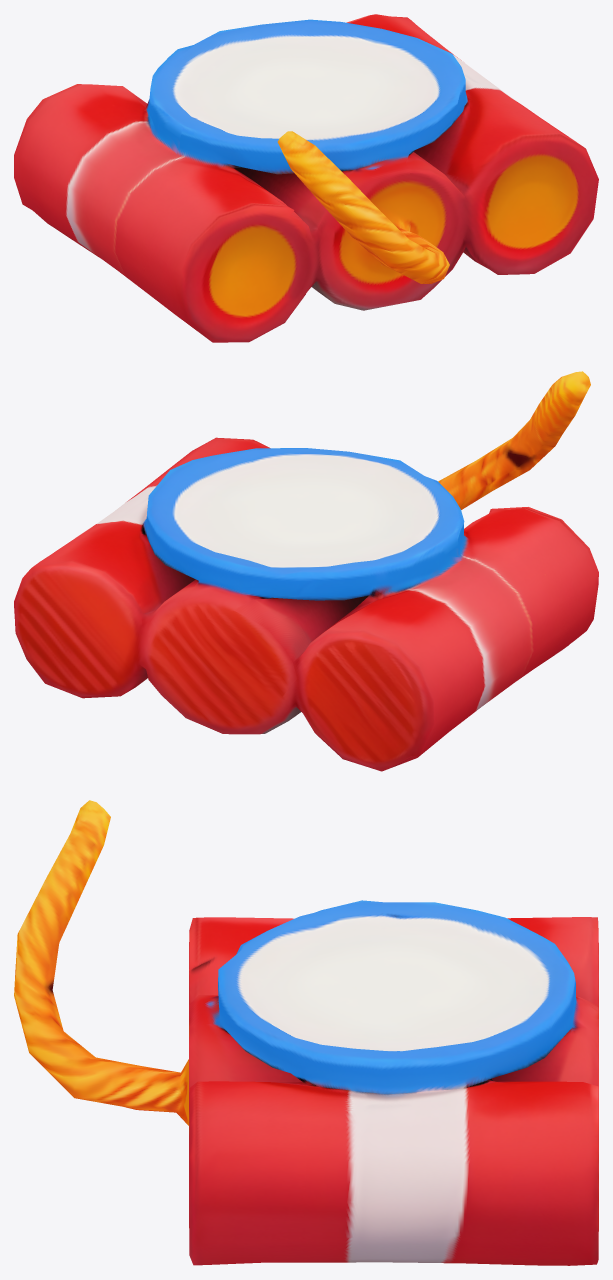
File: base_basic_shaded.fbx
3 views of the same model, one above another, from view 1: azimuth 30°, elevation 25°; view 2: azimuth 150°, elevation 25°; view 3: azimuth 270°, elevation 25° (orthographic). The views are drawn at different scales.
Visible parts, largest first — view 1: model; view 2: model; view 3: model.
Boxes of the visible parts, <box> form: model: <box>14,14,598,342</box>; model: <box>14,371,598,771</box>; model: <box>14,800,598,1265</box>.
Bounding box in the file's own units: 176 × 97.03 × 178.
